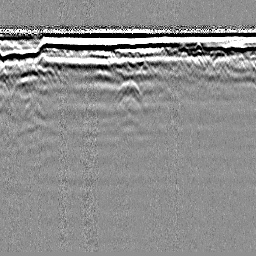cavity: (113, 79, 143, 101)
